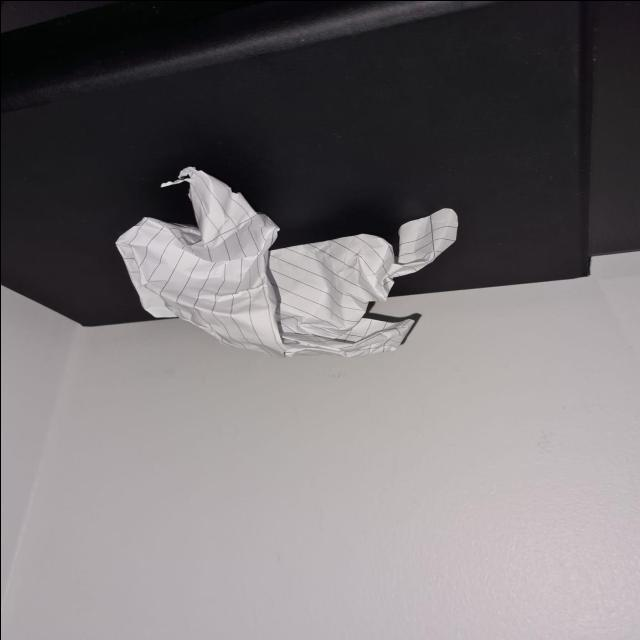kertas: (120, 192, 466, 350)
